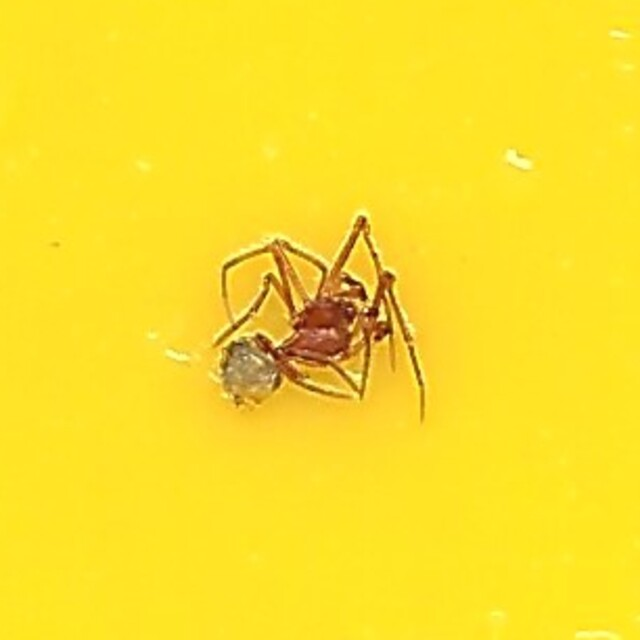Araneae: (209, 220, 431, 420)
